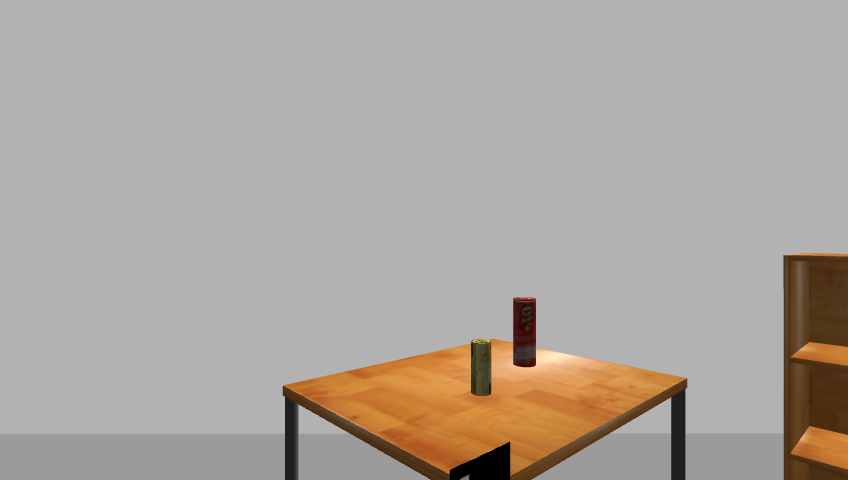aruco marker: (444, 442, 515, 480)
biscuits pack: (470, 338, 493, 397)
bookshelf: (778, 253, 848, 480)
dinner table: (275, 341, 696, 480)
pringles can: (510, 296, 538, 369)
